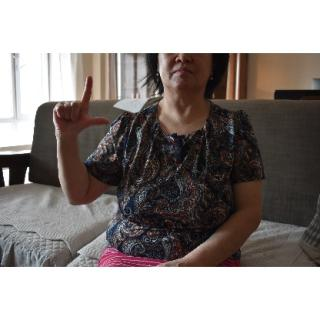LAAM: (47, 73, 114, 138)
